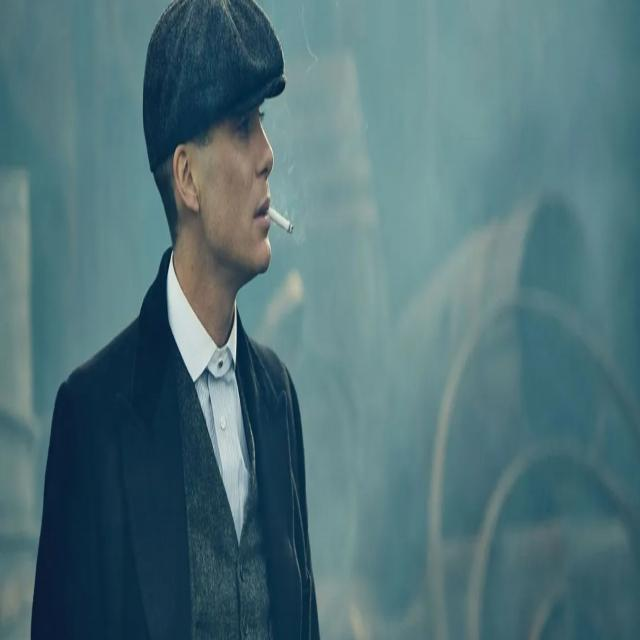smoke: (267, 205, 300, 252)
